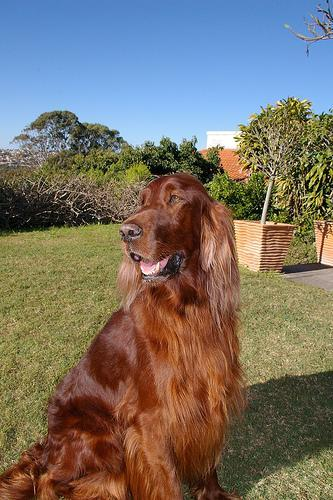Irish_setter: (0, 170, 241, 498)
